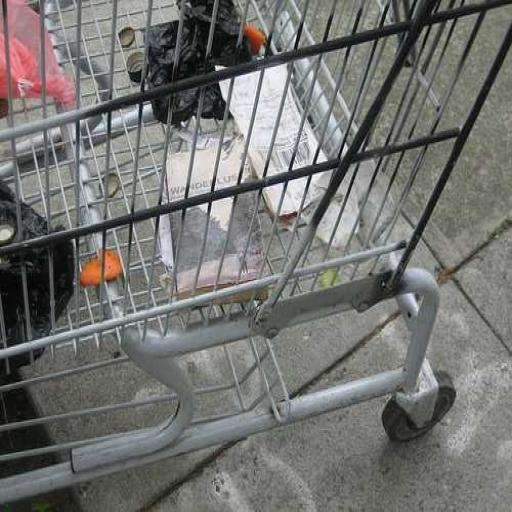shopping_cart: (0, 2, 512, 506)
